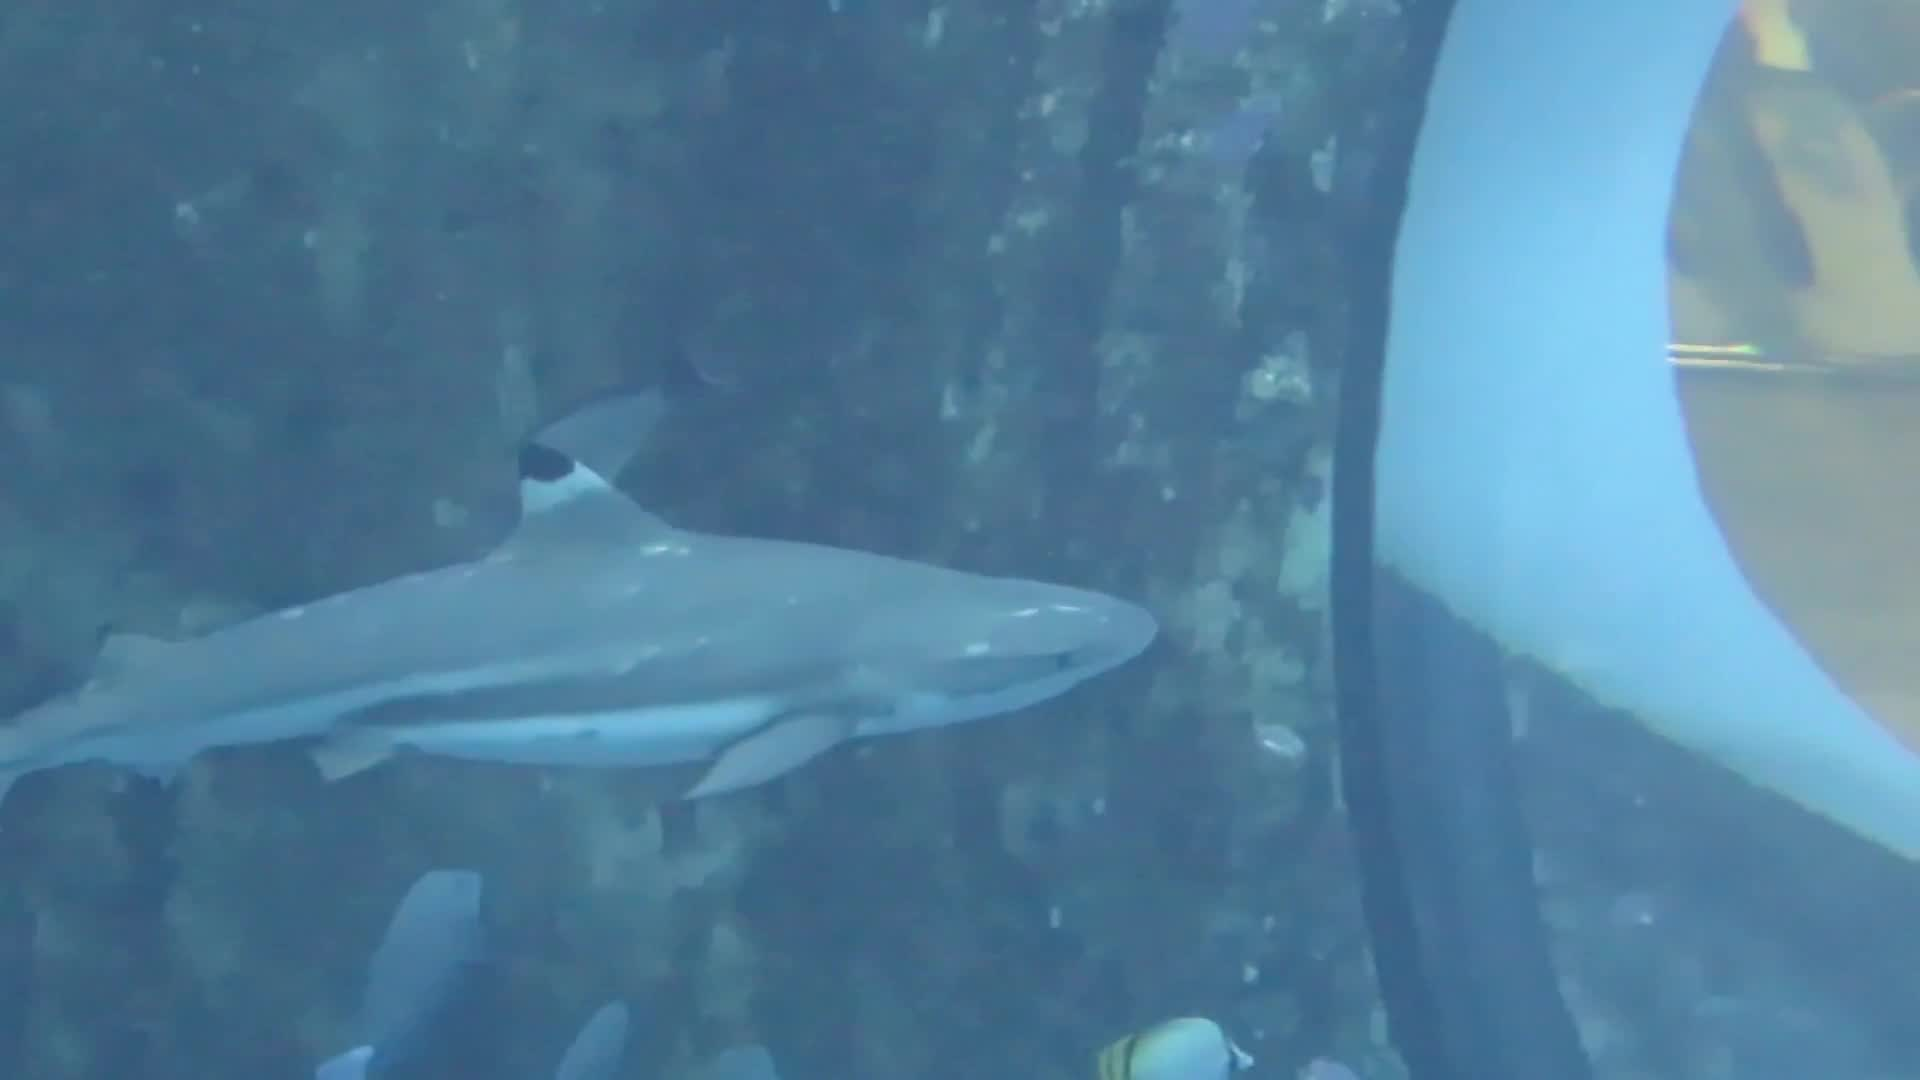Carcharhinus melanopterus: (1, 368, 1303, 923)
